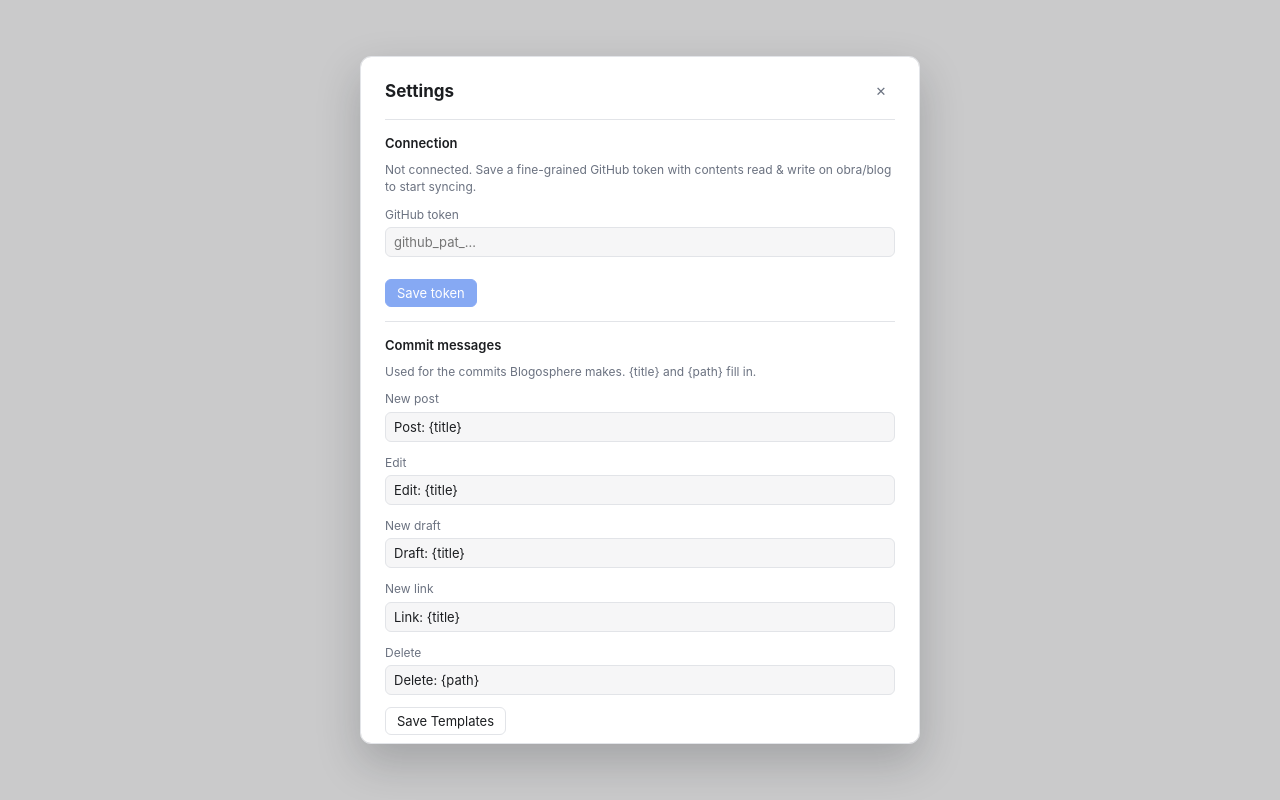
explains a rejected token inline
This screenshot has width=1280, height=800.
Type "github_pat_bad" into the password field labelled "GitHub token" at (640, 242), box [385, 227, 895, 257]
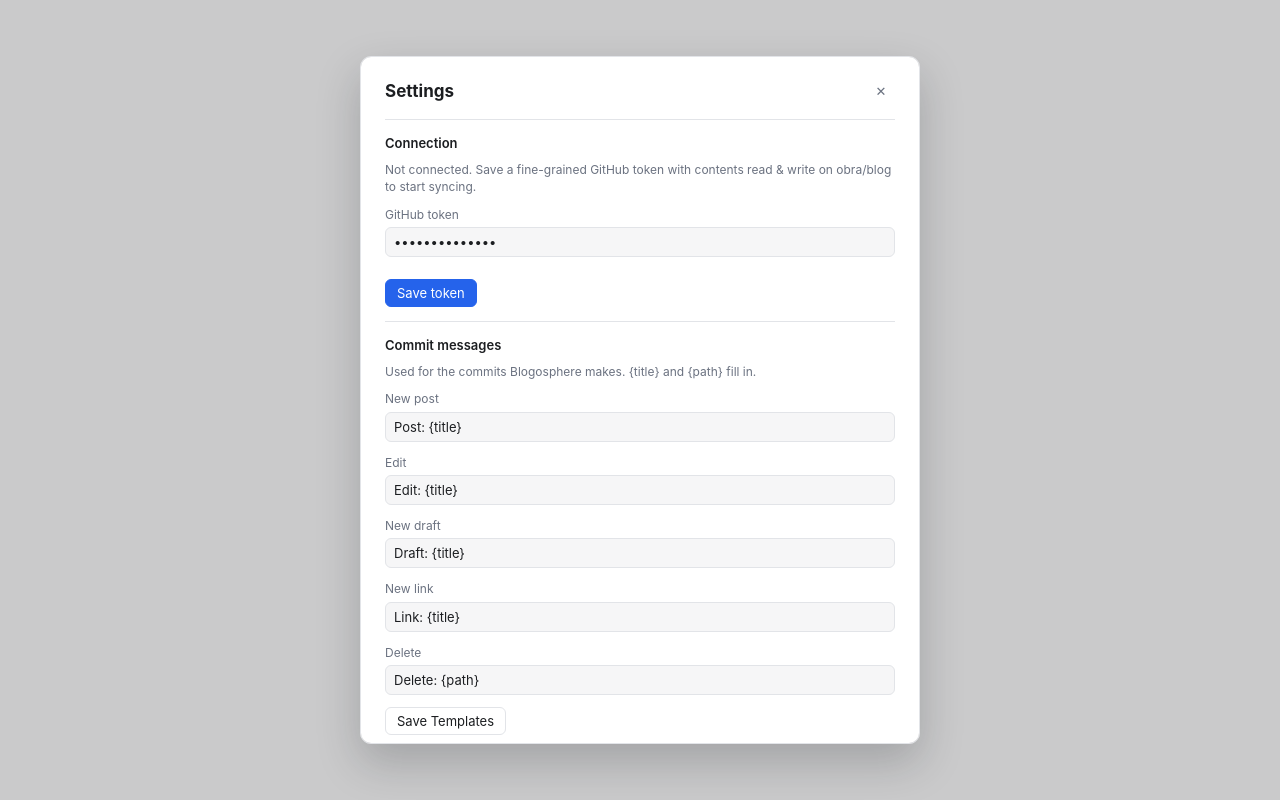
Click the button "Save token" at (431, 293), box [385, 279, 477, 307]
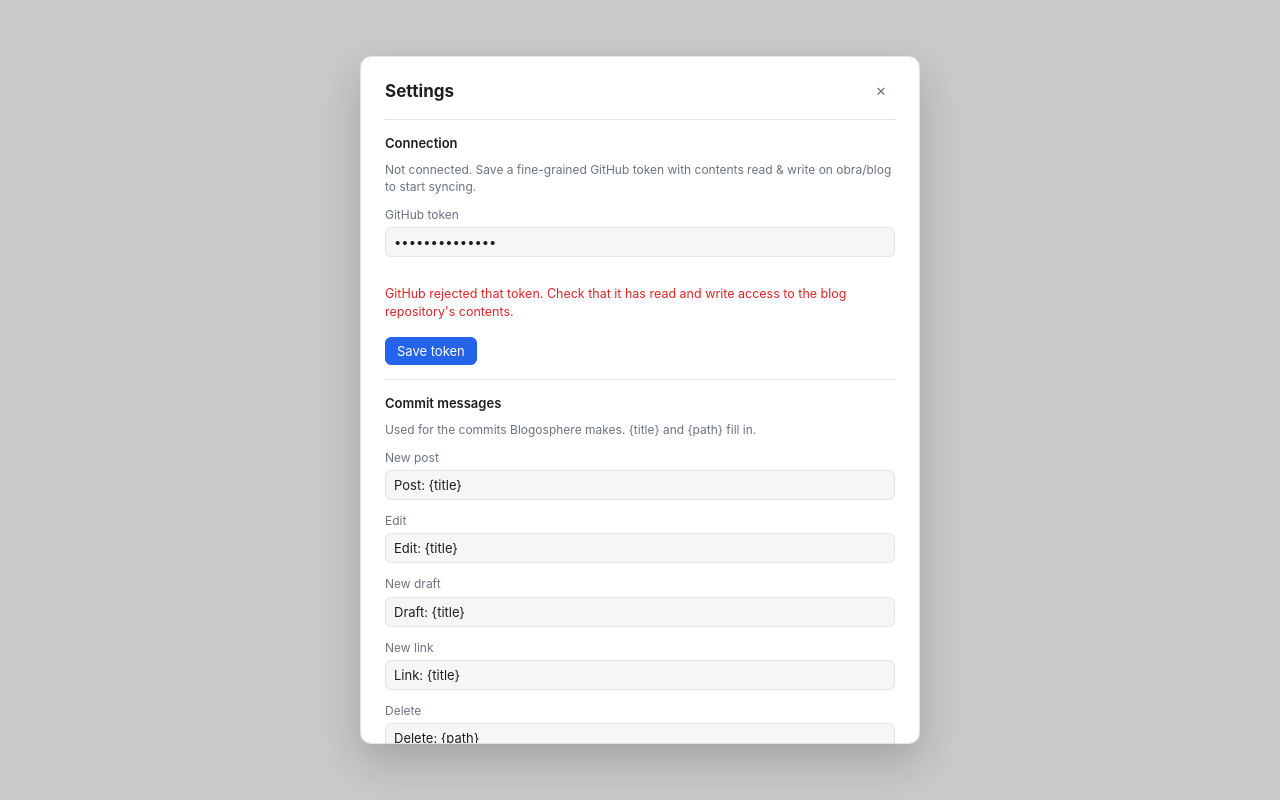
Expected: the message shows "GitHub rejected that token", [385, 286, 846, 319]
